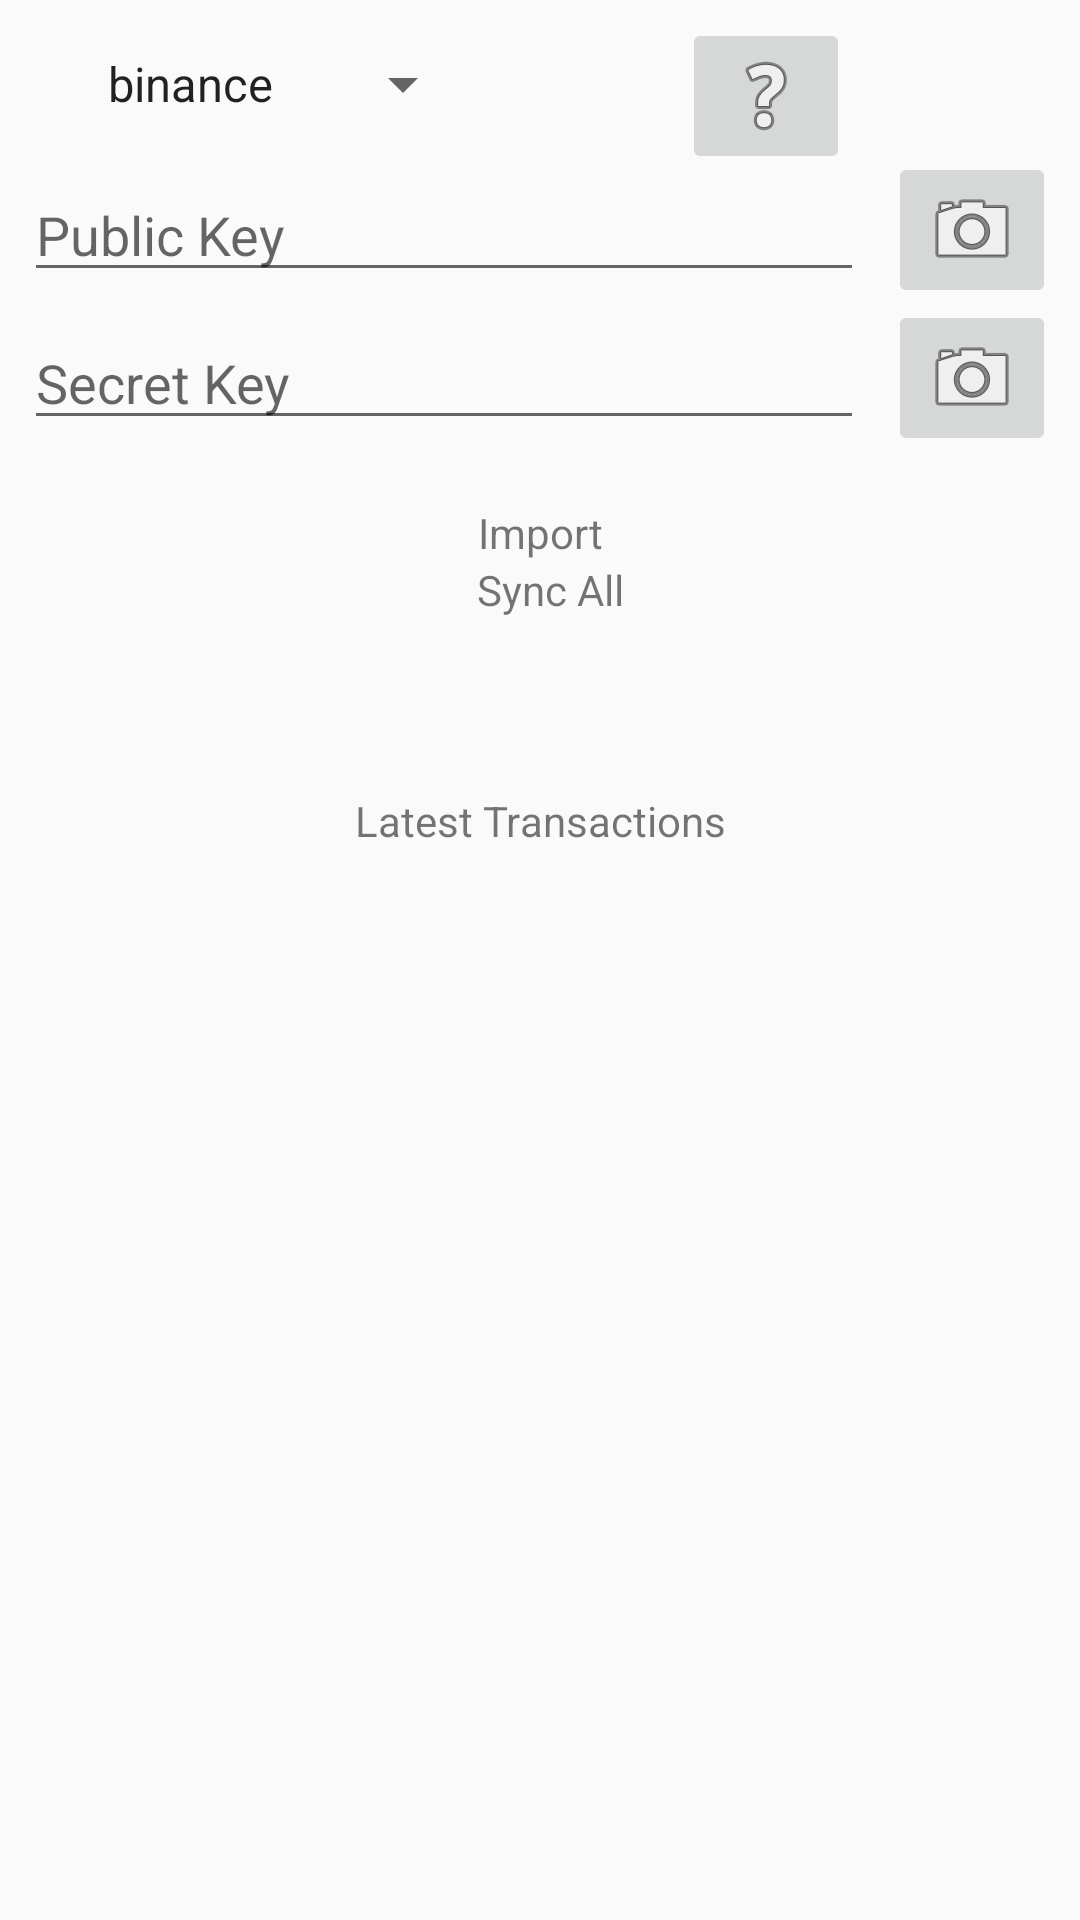

Icons on this 1080×1920 Android screen, each with its box as (x1, y1, x2, y2):
camera: (900, 170, 1044, 290), (900, 318, 1044, 438)
help: (694, 36, 838, 156)
